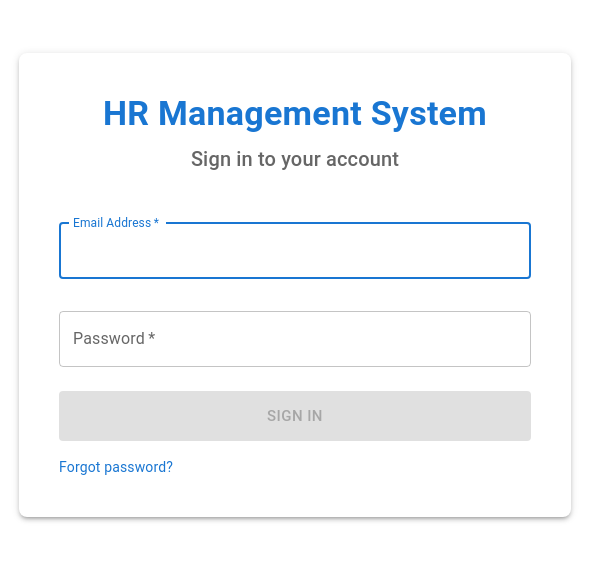
LoginPage › Error Handling › displays generic error message for non-Error objects
Type "test@example.com" into the field labelled "Email Address *" at (295, 251), box [59, 223, 531, 279]
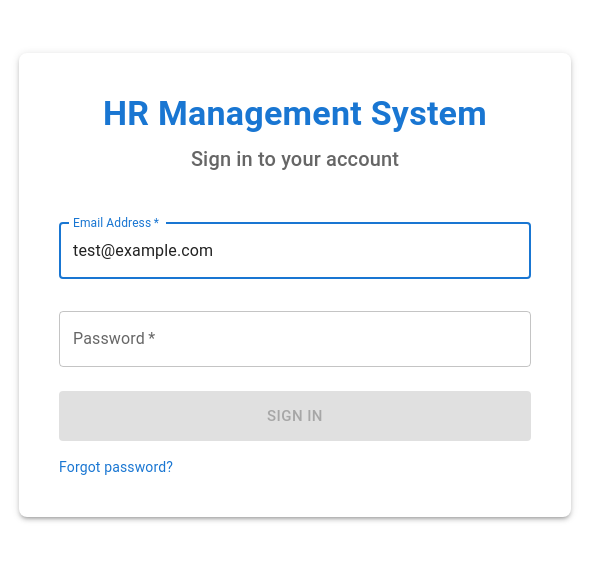
Type "password123" into the password field labelled "Password *" at (295, 339), box [59, 311, 531, 367]
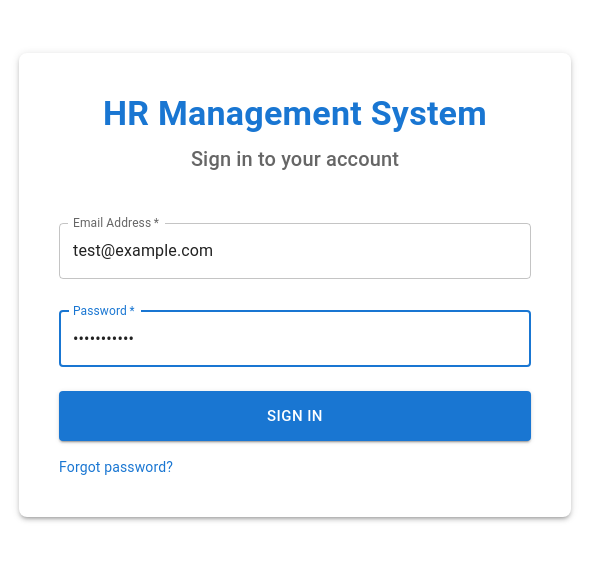
Click the button "Sign In" at (295, 416), box [59, 391, 531, 441]
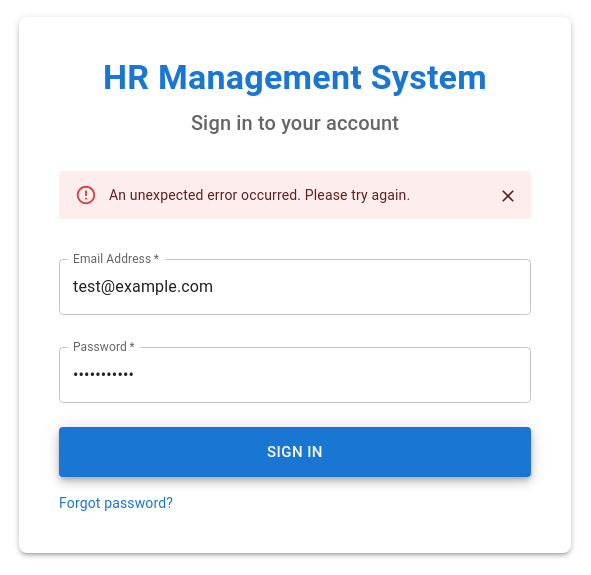
Expected: the text "An unexpected error occurred. Please try again." is shown, [109, 187, 410, 203]
